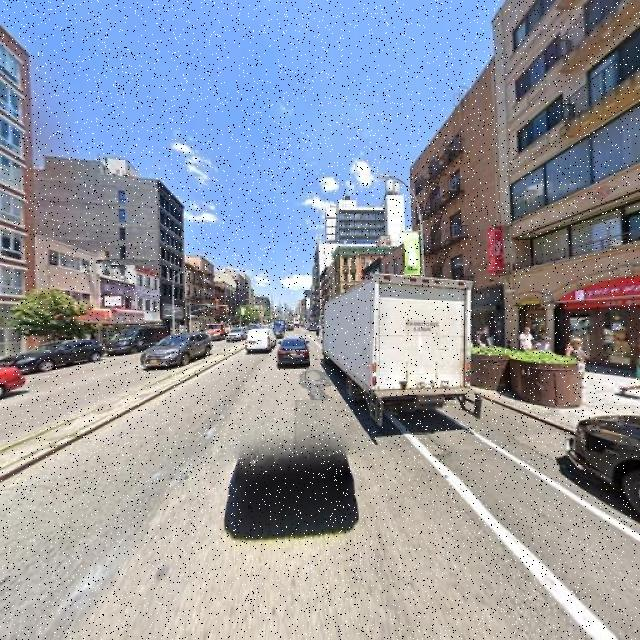Building: (507, 1, 640, 379), (1, 34, 29, 350)
